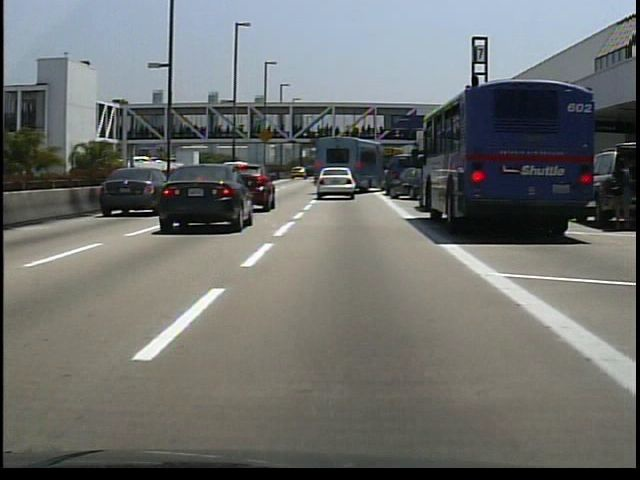person: (601, 156, 630, 227)
